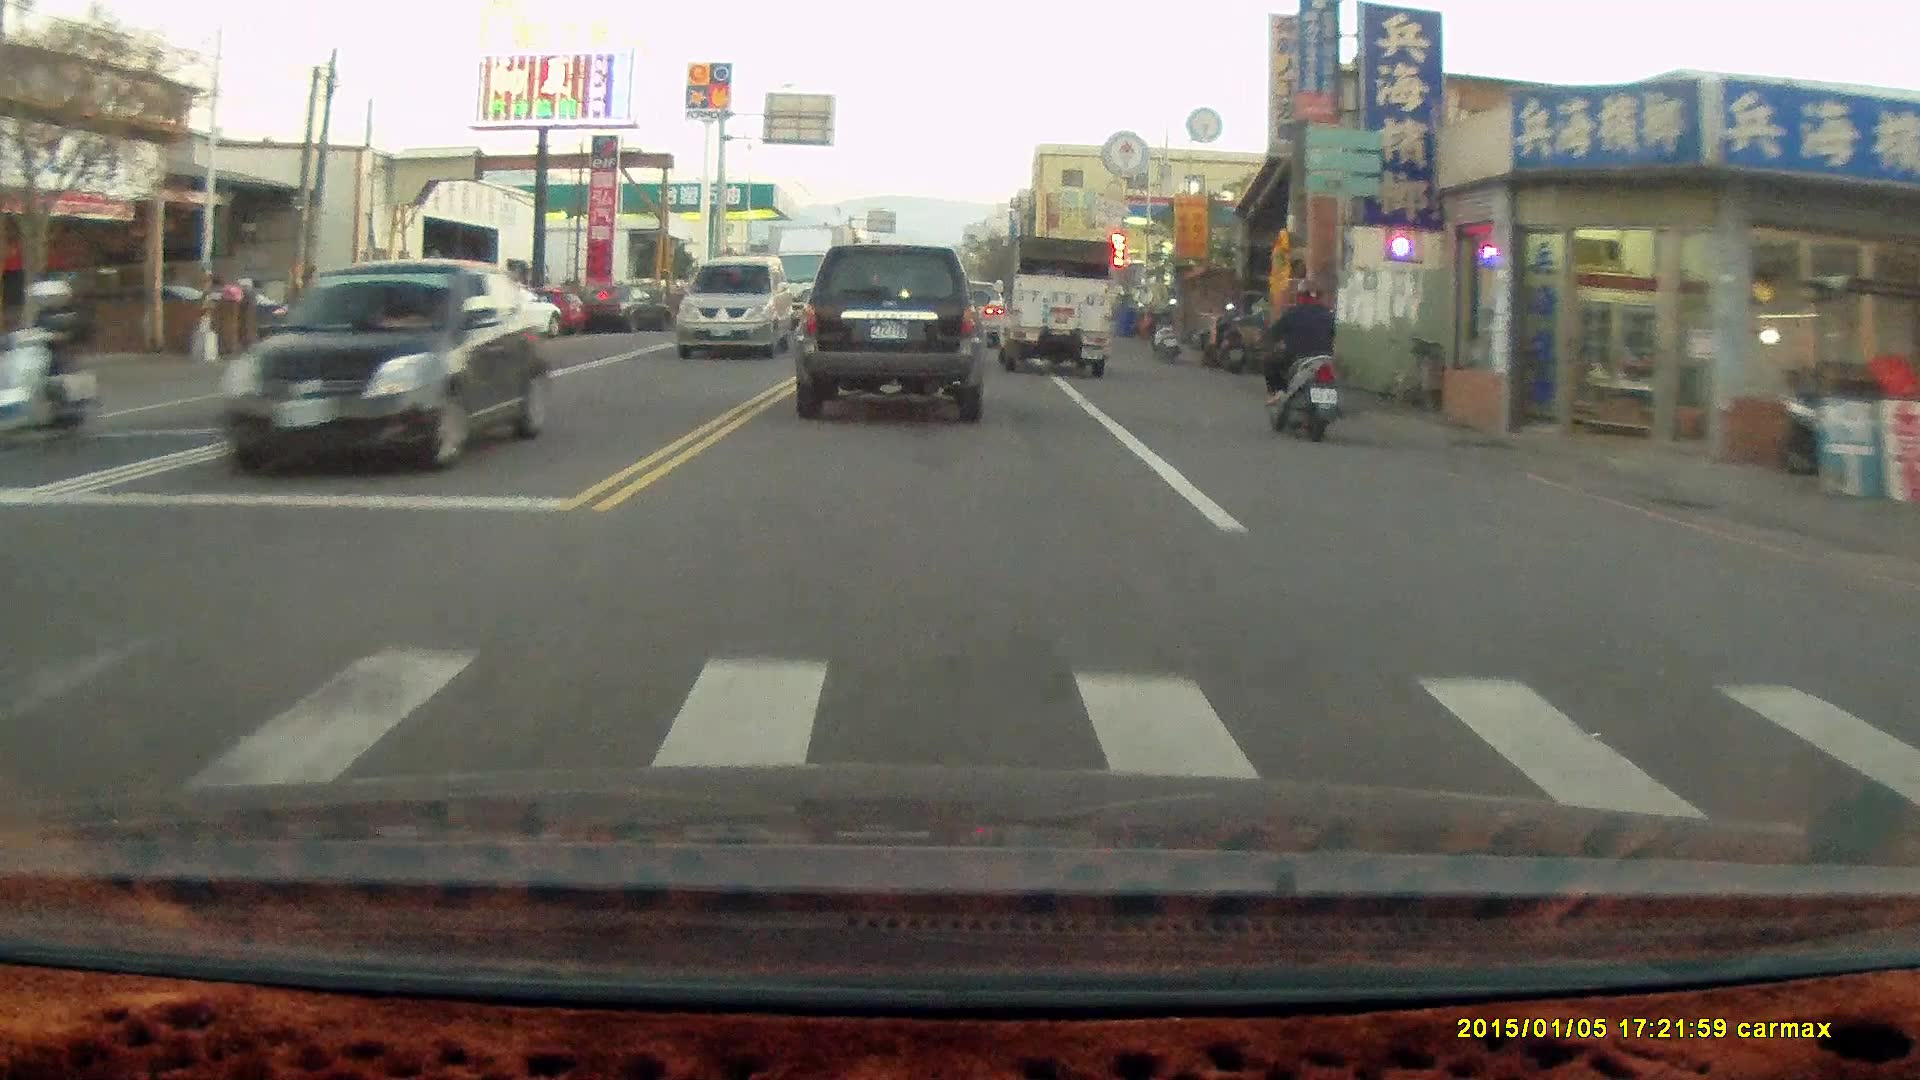rider: (0, 274, 99, 442), (1251, 276, 1344, 444)
vehicle: (219, 260, 550, 477), (794, 244, 988, 424), (994, 233, 1114, 378), (679, 260, 800, 363), (436, 284, 568, 357)
